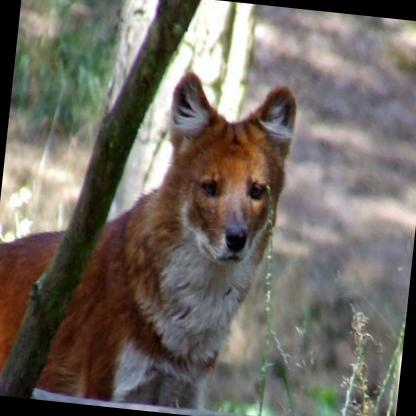dhole: (0, 51, 297, 416)
